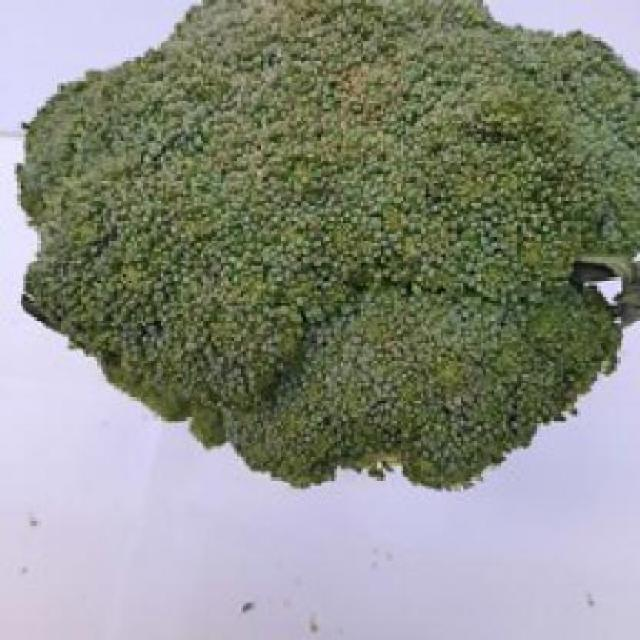broccoli: (12, 11, 638, 474)
